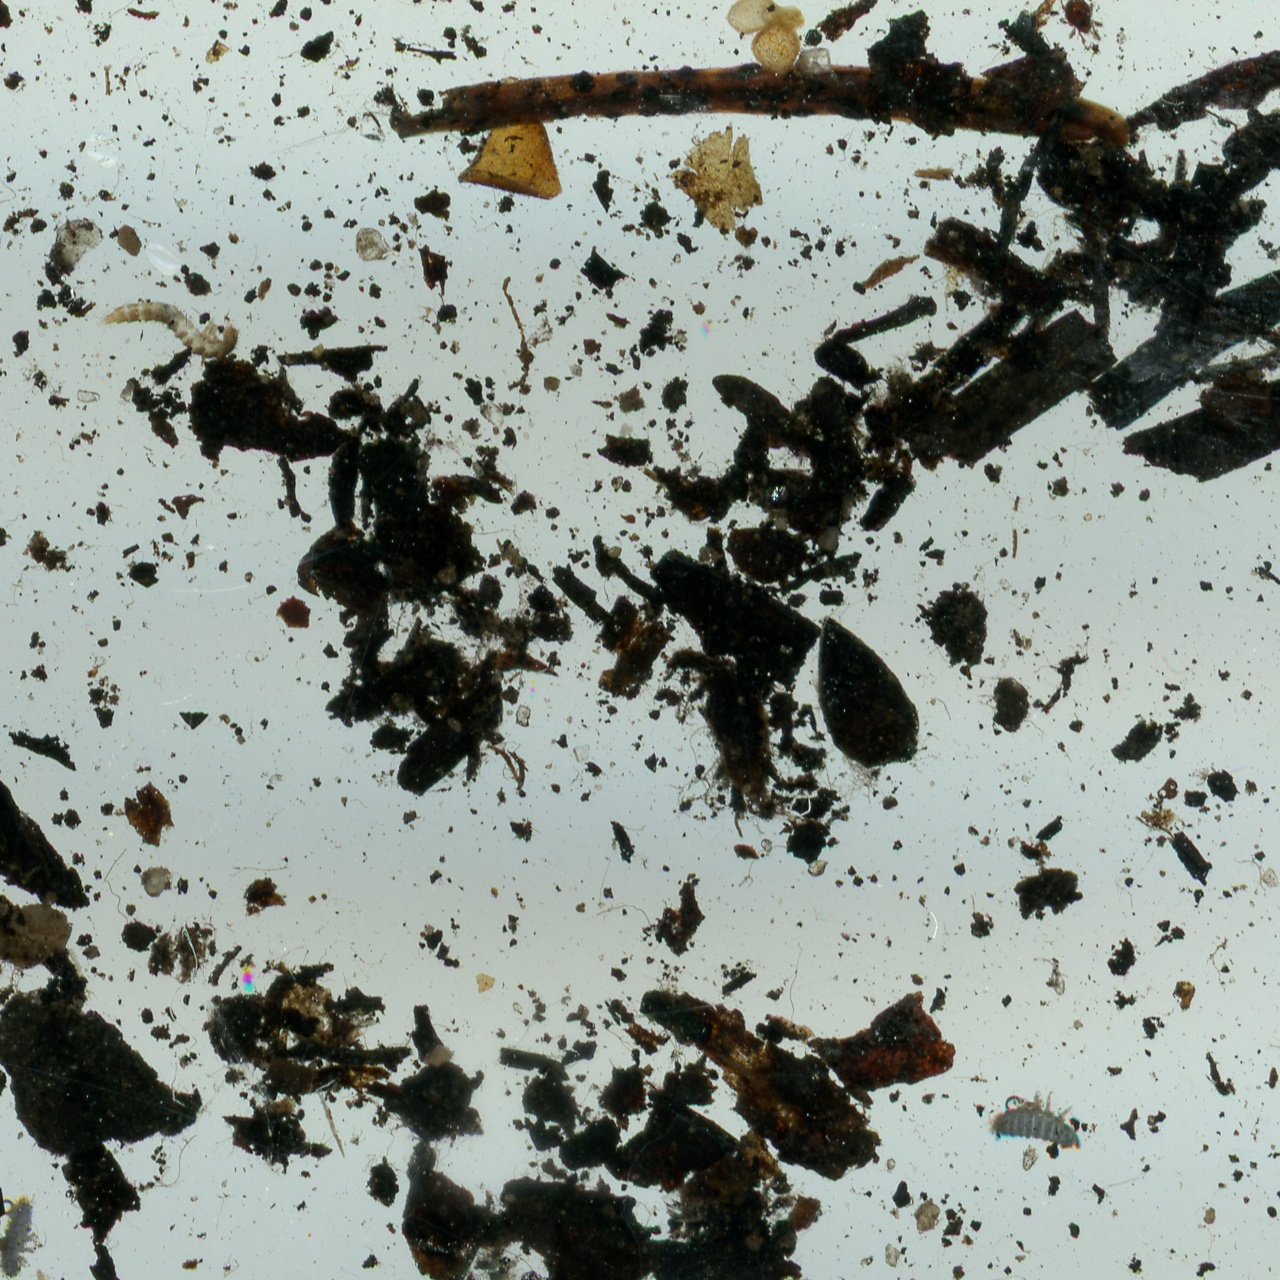arthropod: (96, 294, 241, 365), (987, 1089, 1084, 1153), (0, 1186, 50, 1280), (1047, 0, 1117, 59)
